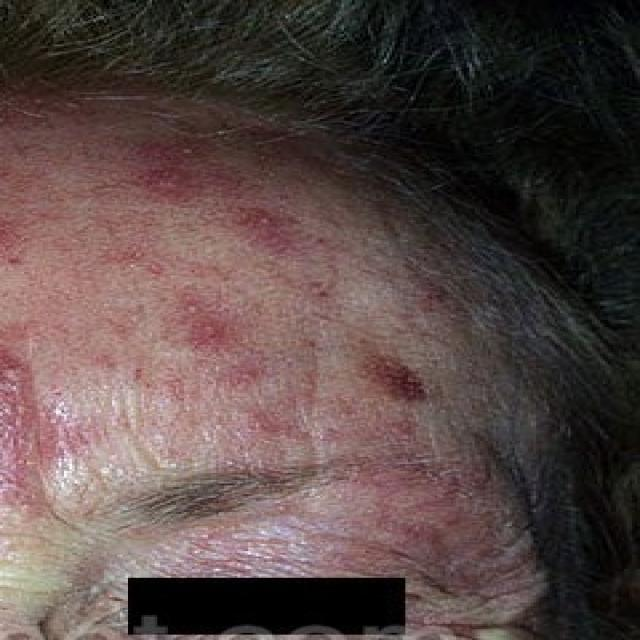Rosacea: (94, 174, 334, 430)
